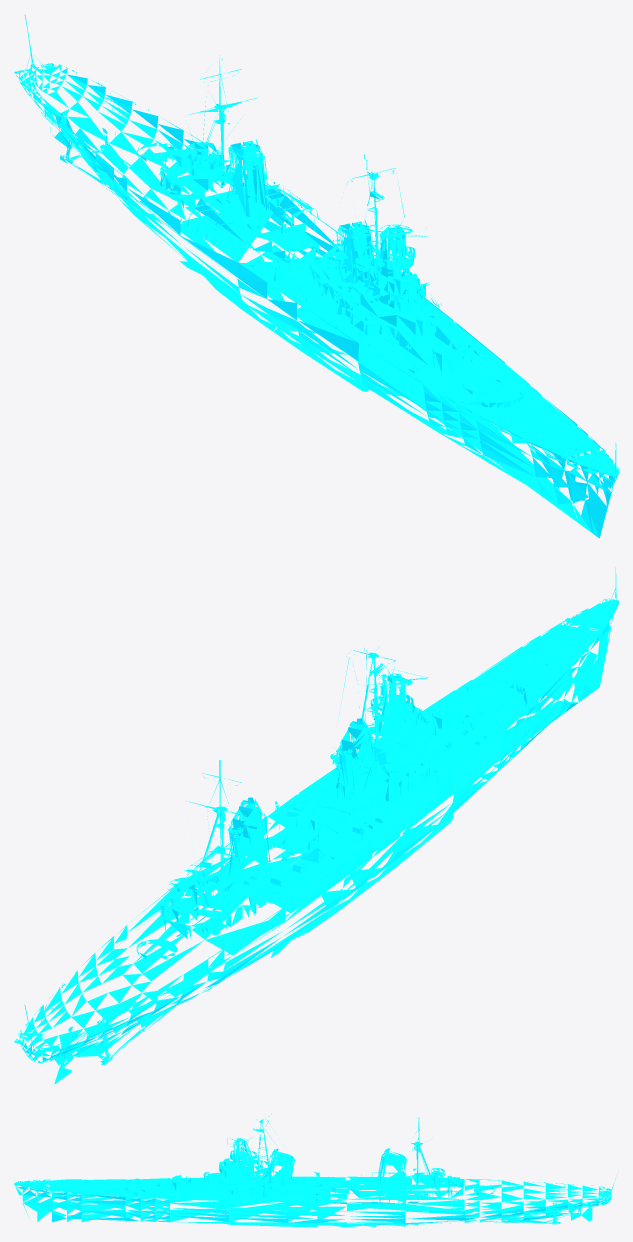
File: Pr_Budeny.glb
3 renders of one model, top to bottom at view 1: azimuth 30°, elevation 25°; view 2: azimuth 150°, elevation 25°; view 3: azimuth 270°, elevation 25°, orthographic. The views are drawn at different scales.
Bounding box in the file's own units: 1.35 × 2.57 × 12.95.
